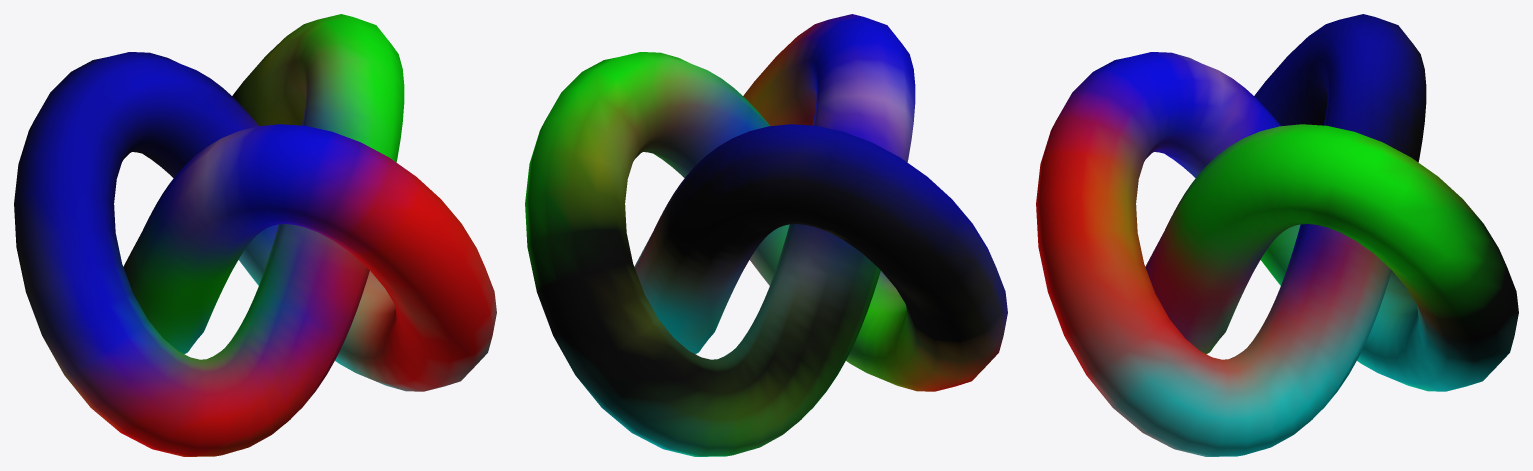
The model's file is torus_know.FBX.
3 renders of one model, left to right at view 1: azimuth 30°, elevation 25°; view 2: azimuth 150°, elevation 25°; view 3: azimuth 270°, elevation 25°, orthographic.
Visible parts, largest first — view 1: Torus Knot001; view 2: Torus Knot001; view 3: Torus Knot001.
Boxes of the visible parts, x1=… form: Torus Knot001: x1=14, y1=14, x2=496, y2=456; Torus Knot001: x1=525, y1=14, x2=1007, y2=456; Torus Knot001: x1=1036, y1=14, x2=1518, y2=456.
Bounding box in the file's own units: 36.16 × 28.25 × 38.42.
